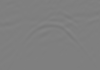hyperbola: (26, 20, 83, 49)
